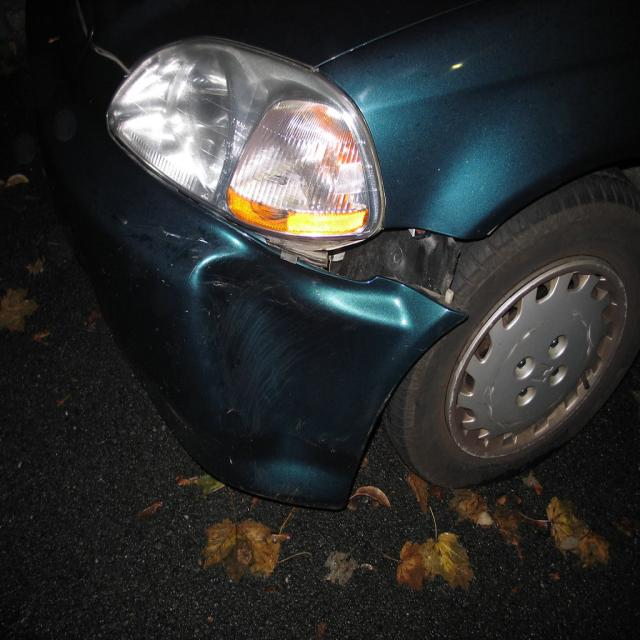dent: (182, 241, 408, 491)
misalignment: (225, 223, 487, 318)
scratch: (197, 262, 356, 433), (160, 227, 210, 245)
